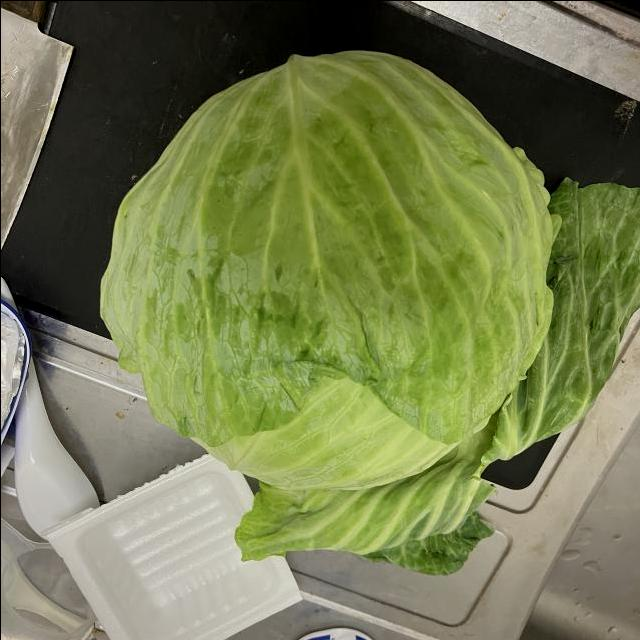cabbage: (95, 42, 563, 493)
